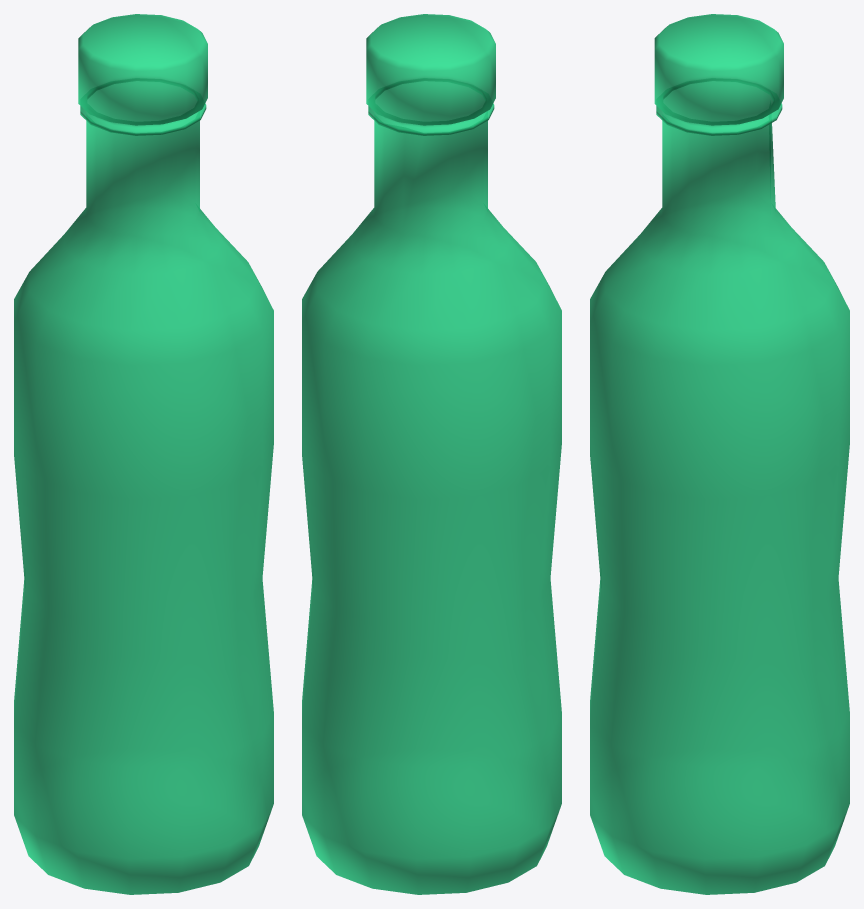
Rendered from Bottle.fbx.
The picture shows the model from 3 angles, left to right: view 1: azimuth 30°, elevation 25°; view 2: azimuth 150°, elevation 25°; view 3: azimuth 270°, elevation 25°; orthographic projection.
Visible parts, largest first — view 1: Flashe; view 2: Flashe; view 3: Flashe.
Boxes of the visible parts, left/top/right/bottom form: Flashe: left=14, top=14, right=273, bottom=894; Flashe: left=302, top=14, right=561, bottom=894; Flashe: left=590, top=14, right=849, bottom=894.
Size of the model in its own units: 7.03 by 23.94 by 6.99.
